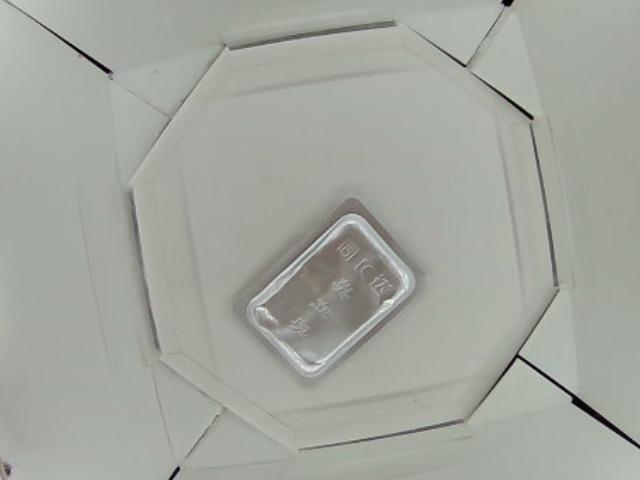Medicine: (241, 197, 424, 388)
